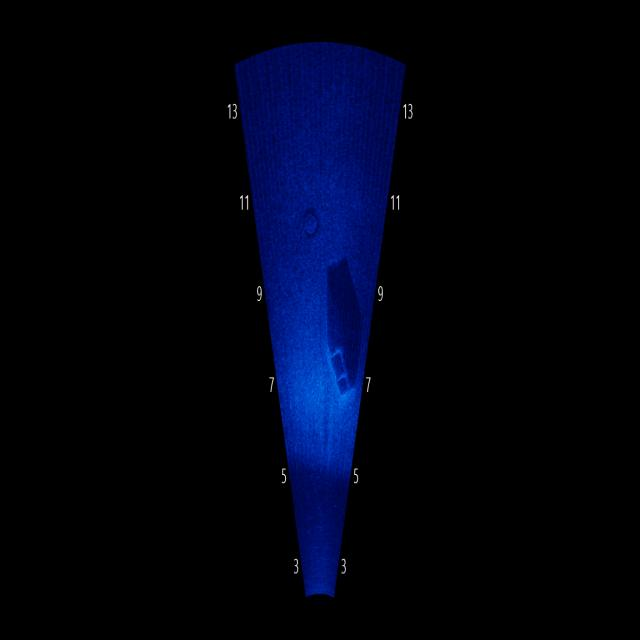square: (323, 338, 357, 409)
